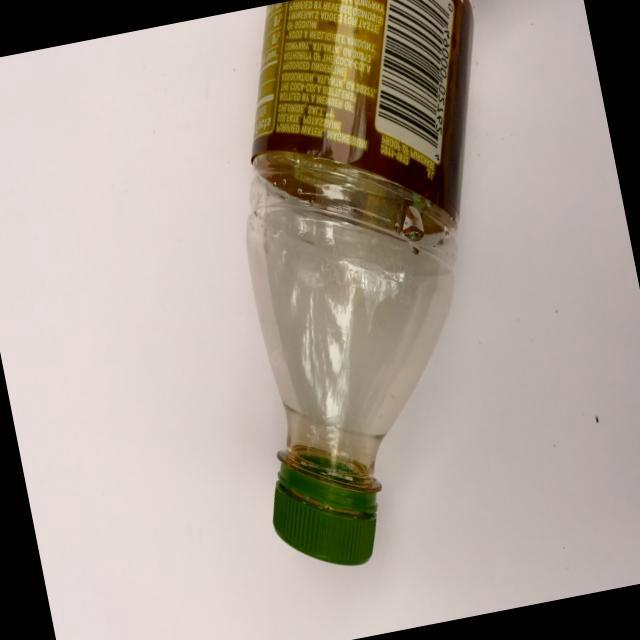plastic: (161, 0, 598, 601)
